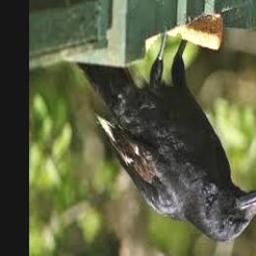Crow: (73, 28, 256, 243)
